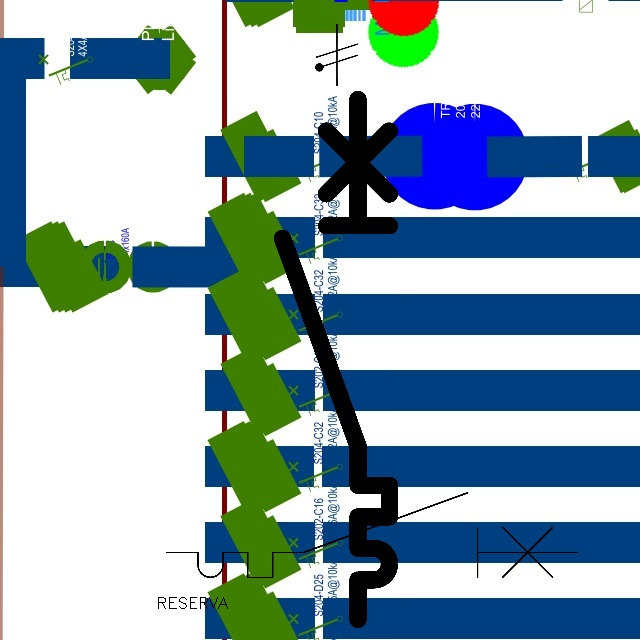interruptor_termomagnetico: (269, 85, 403, 632), (156, 482, 588, 588)
